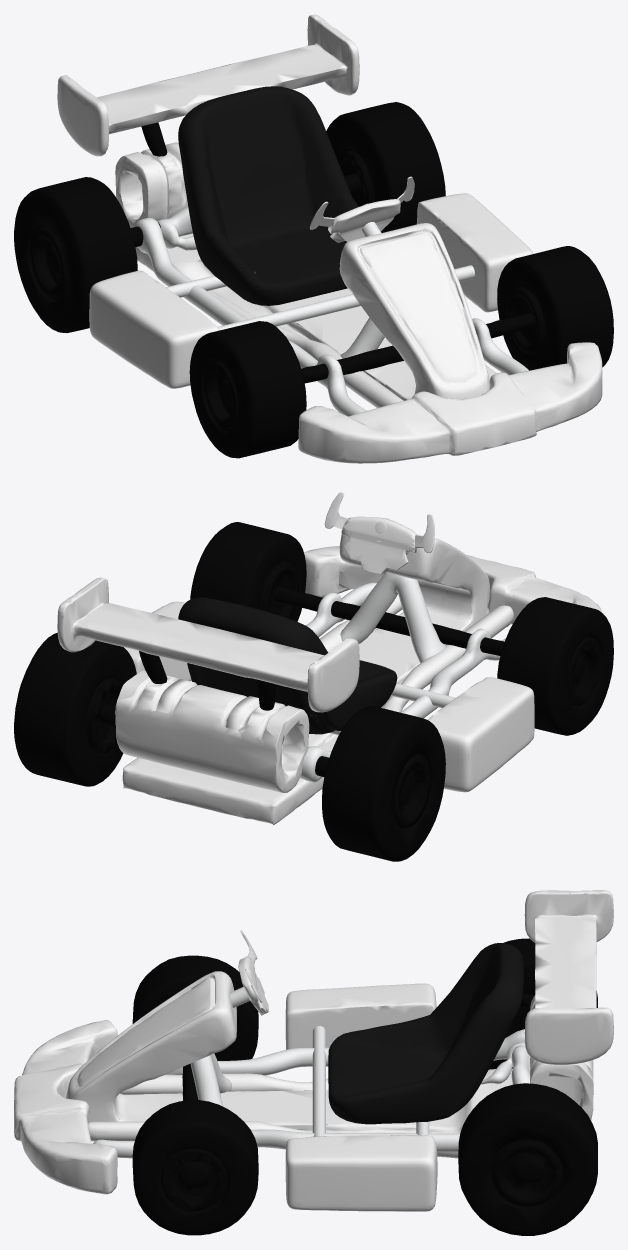
File: kart.glb
3 views of the same model, one above another, from view 1: azimuth 30°, elevation 25°; view 2: azimuth 150°, elevation 25°; view 3: azimuth 270°, elevation 25° (orthographic). The views are drawn at different scales.
Visible parts, largest first — view 1: Body, Wheel_RR, Wheel_RF, Wheel_LF, Wheel_LR, Steer; view 2: Body, Wheel_RR, Wheel_LR, Wheel_RF, Wheel_LF, Steer; view 3: Body, Wheel_LR, Wheel_LF, Wheel_RF, Wheel_RR, Steer.
Part boxes in pixels (x1,y1,x2,y2): Body: [57, 14, 602, 463]; Wheel_RR: [14, 177, 137, 332]; Wheel_RF: [189, 321, 306, 458]; Wheel_LF: [497, 246, 613, 370]; Wheel_LR: [326, 102, 445, 232]; Steer: [309, 176, 414, 242]; Body: [57, 534, 601, 825]; Wheel_RR: [322, 706, 445, 861]; Wheel_LR: [14, 632, 136, 786]; Wheel_RF: [497, 597, 613, 735]; Wheel_LF: [190, 522, 306, 621]; Steer: [324, 492, 434, 574]; Body: [14, 890, 613, 1211]; Wheel_LR: [458, 1083, 597, 1235]; Wheel_LF: [132, 1100, 258, 1235]; Wheel_RF: [132, 955, 258, 1060]; Wheel_RR: [489, 938, 597, 1069]; Steer: [229, 930, 268, 1015].
Bounding box in the file's own units: 1.28 × 0.6712 × 1.81.
Materials: 23 (23 with a texture image).
